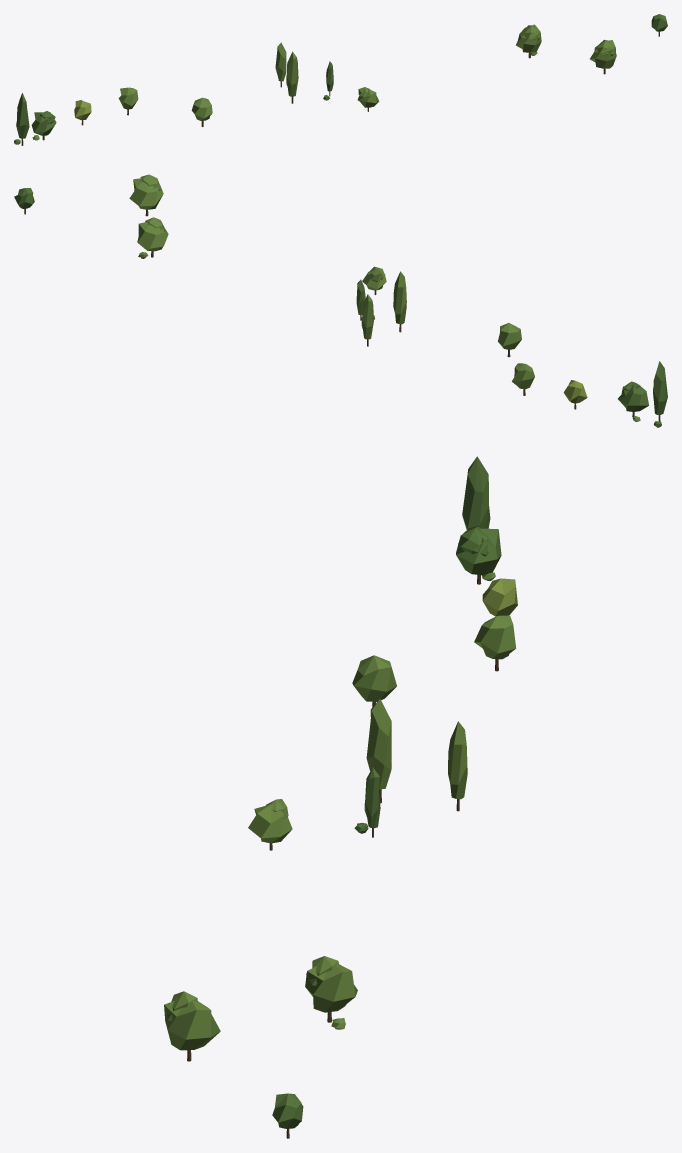
The model's file is Natura_0_3.fbx.
The picture shows the model from 3 angles, top to bottom: view 1: azimuth 30°, elevation 25°; view 2: azimuth 150°, elevation 25°; view 3: azimuth 270°, elevation 25°; orthographic projection. The views are drawn at different scales.
Visible parts, largest first — view 1: Drzewo_1621, Drzewo_1616, Drzewo_1608, Drzewo_1612, Drzewo_1607, Drzewo_1611, Drzewo_1613, Drzewo_1610, Drzewo_1615, Drzewo_1609, Drzewo_1617; view 2: Drzewo_1621, Drzewo_1616, Drzewo_1608, Drzewo_1607, Drzewo_1612, Drzewo_1611, Drzewo_1610, Drzewo_1613, Drzewo_1615, Drzewo_1609; view 3: Drzewo_1621, Drzewo_1616, Drzewo_1608, Drzewo_1612, Drzewo_1607, Drzewo_1611, Drzewo_1610, Drzewo_1615, Drzewo_1613, Drzewo_1609.
Boxes of the visible parts, x1,y1,x2,y2 form: Drzewo_1621: (590, 39, 616, 74); Drzewo_1616: (516, 24, 541, 58); Drzewo_1608: (31, 111, 56, 140); Drzewo_1612: (286, 51, 298, 103); Drzewo_1607: (16, 93, 29, 145); Drzewo_1611: (191, 97, 212, 126); Drzewo_1613: (275, 42, 286, 87); Drzewo_1610: (118, 87, 138, 115); Drzewo_1615: (357, 87, 379, 111); Drzewo_1609: (74, 100, 91, 125); Drzewo_1617: (651, 14, 667, 36); Drzewo_1621: (129, 174, 163, 216); Drzewo_1616: (137, 217, 168, 257); Drzewo_1608: (618, 381, 648, 417); Drzewo_1607: (653, 361, 667, 421); Drzewo_1612: (393, 271, 406, 332); Drzewo_1611: (498, 323, 521, 357); Drzewo_1610: (512, 363, 534, 395); Drzewo_1613: (361, 294, 373, 346); Drzewo_1615: (362, 266, 386, 294); Drzewo_1609: (563, 380, 587, 409); Drzewo_1621: (164, 991, 220, 1061); Drzewo_1616: (305, 956, 357, 1022); Drzewo_1608: (456, 526, 501, 584); Drzewo_1612: (366, 699, 391, 803); Drzewo_1607: (462, 456, 490, 530); Drzewo_1611: (352, 655, 396, 707); Drzewo_1610: (474, 615, 516, 671); Drzewo_1615: (248, 799, 292, 850); Drzewo_1613: (448, 721, 467, 811); Drzewo_1609: (482, 578, 517, 616).
Bounding box in the file's own units: 198 × 16.83 × 50.35.
